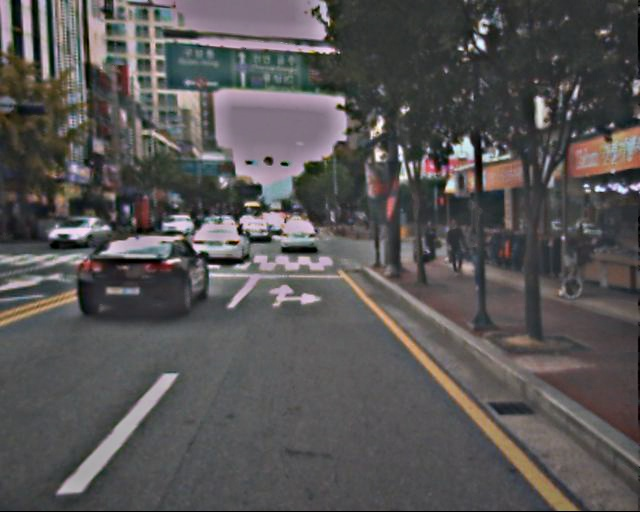person: (466, 221, 494, 292), (443, 219, 469, 279), (424, 218, 441, 264)
